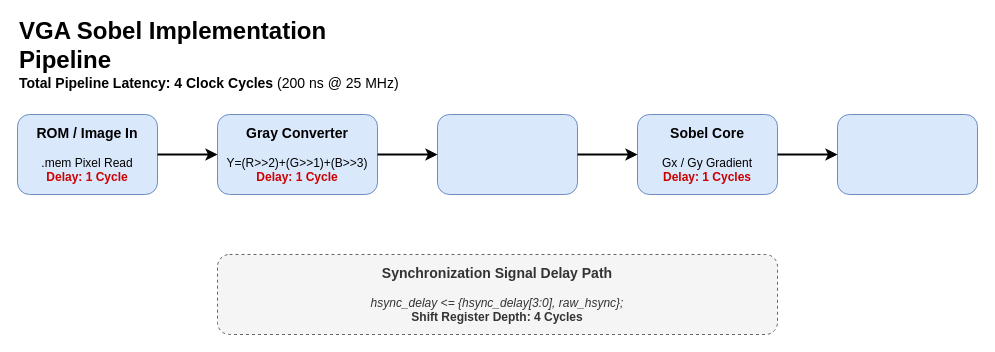
This 995x352 diagram has some shape labels left out. Here are the shapes that lost their labels. From the top down, the centre of each, then its label:
At [507,154]: "Line Buffers Fill 3x3 Window Delay: 1 Cycles".
At [907,154]: "VGA Formatter Pixel mapping Output".
